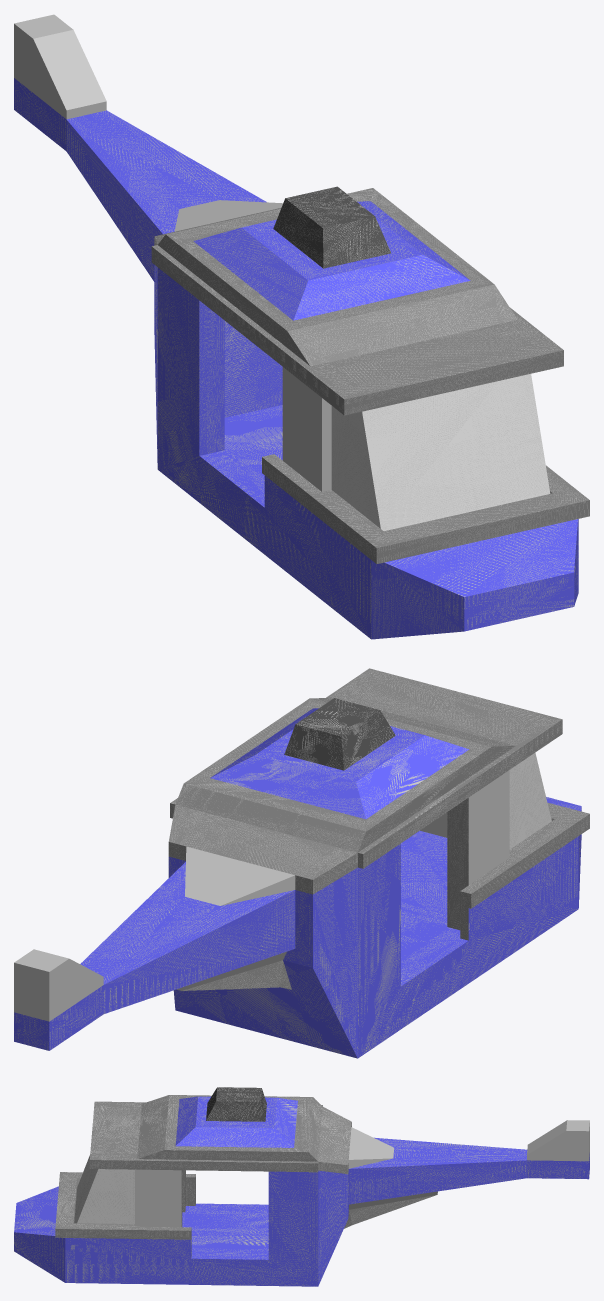
The model's file is heli.dae.
3 renders of one model, top to bottom at view 1: azimuth 30°, elevation 25°; view 2: azimuth 150°, elevation 25°; view 3: azimuth 270°, elevation 25°, orthographic. The views are drawn at different scales.
Visible parts, largest first — view 1: SketchUp (×8); view 2: SketchUp (×9); view 3: SketchUp (×9).
Boxes of the visible parts, box(x1,y1,x2,y2) form: SketchUp (×8): box(14, 14, 589, 639); SketchUp (×9): box(14, 668, 589, 1058); SketchUp (×9): box(14, 1087, 589, 1286).
Size of the model in its own units: 14.84 by 58.44 by 18.29.
